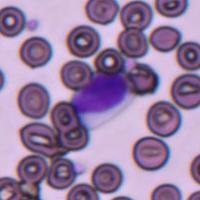L: (70, 71, 133, 124)
